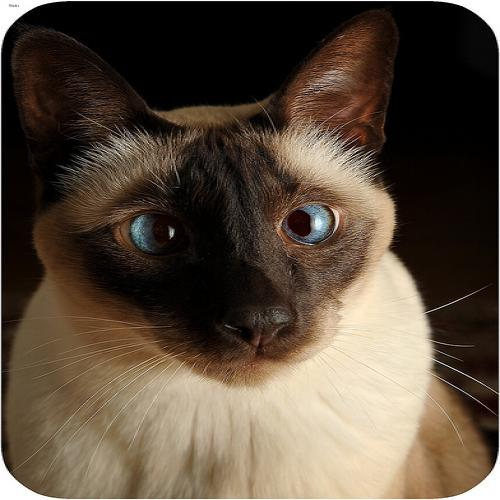siamese: (7, 22, 448, 393)
